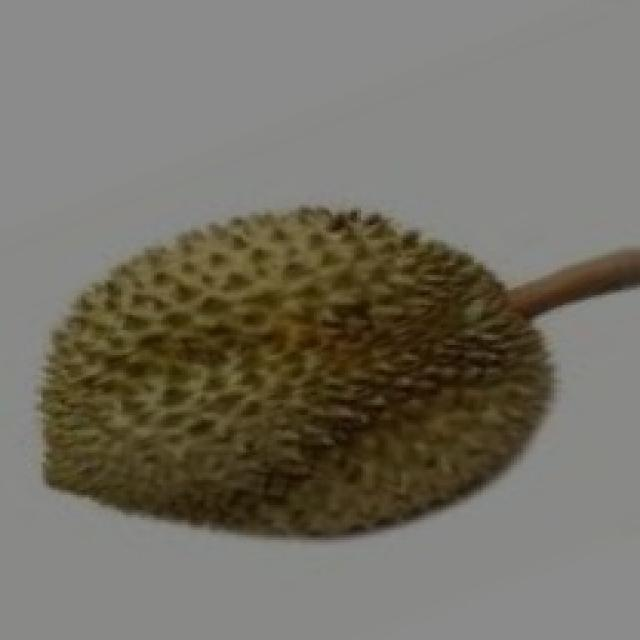fruit: (197, 170, 597, 592), (3, 175, 366, 585)
